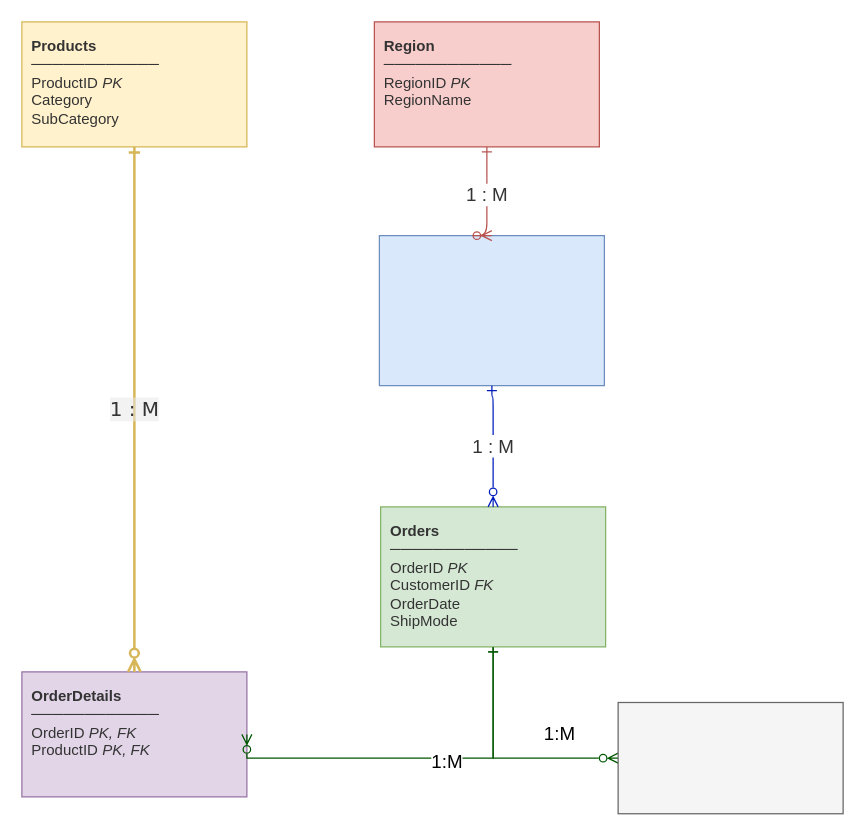
Some shapes in this 865 by 836 pixel diagram are drawn without their labels. The centre of each missing label's shape, as x and y in pixels:
"Customer ──────────── CustomerID PK Name RegionID FK" belongs at [491,310].
"Shipments ──────────── ShipmentID PK OrderID FK ShipDate" belongs at [730,757].
